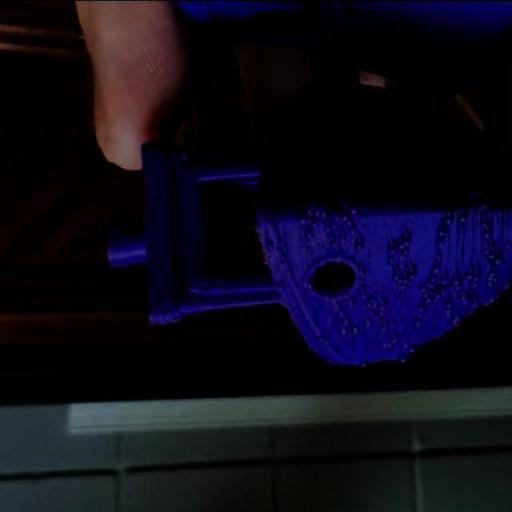blobs: (303, 201, 329, 224), (394, 228, 412, 254), (426, 285, 448, 306), (332, 186, 350, 210), (349, 160, 368, 182), (273, 180, 296, 198), (468, 184, 486, 202), (394, 155, 411, 174), (460, 267, 478, 284), (389, 272, 406, 288), (491, 178, 507, 194), (422, 266, 436, 284), (442, 205, 454, 224), (300, 225, 315, 240), (335, 323, 351, 337), (385, 246, 396, 266), (398, 349, 411, 365), (415, 308, 429, 322), (434, 226, 448, 240), (417, 284, 432, 297), (354, 236, 364, 253), (264, 240, 276, 254), (348, 323, 360, 335), (398, 341, 413, 350), (459, 214, 471, 225)
